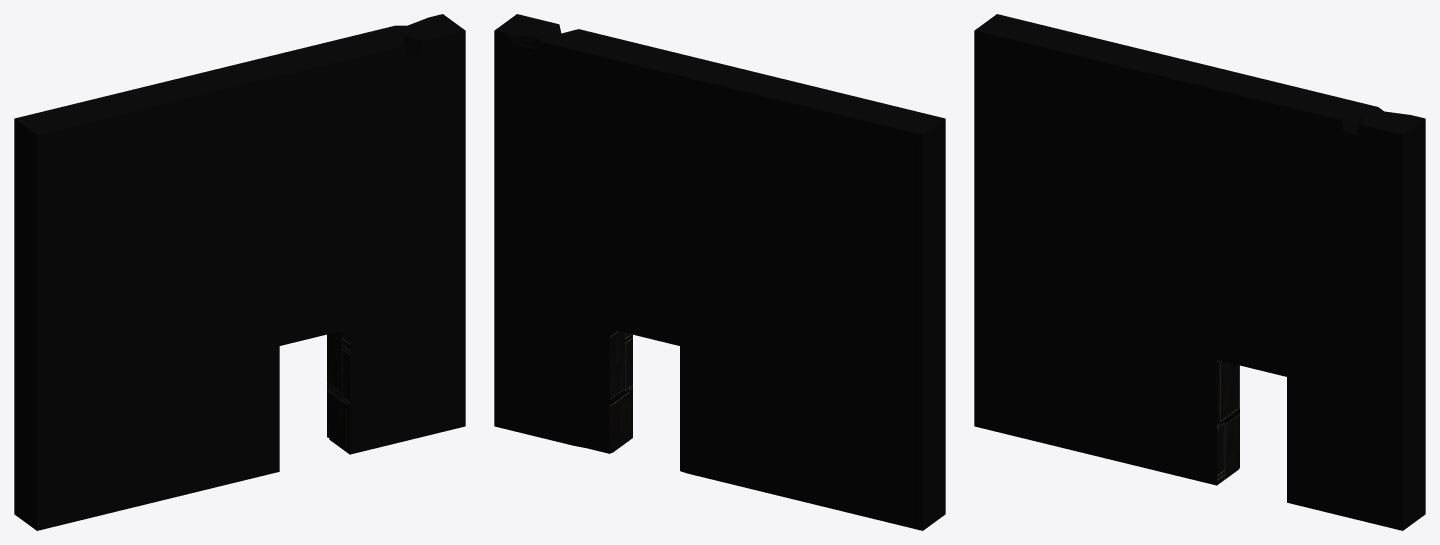
3 renders of one model, left to right at view 1: azimuth 30°, elevation 25°; view 2: azimuth 150°, elevation 25°; view 3: azimuth 330°, elevation 25°, orthographic.
Visible parts, largest first — view 1: SFT_Building_Attachable_Roof_Interior_Support__16_; view 2: SFT_Building_Attachable_Roof_Interior_Support__16_; view 3: SFT_Building_Attachable_Roof_Interior_Support__16_.
Boxes of the visible parts, x1,y1,x2,y2 form: SFT_Building_Attachable_Roof_Interior_Support__16_: (14, 14, 465, 530); SFT_Building_Attachable_Roof_Interior_Support__16_: (494, 14, 945, 530); SFT_Building_Attachable_Roof_Interior_Support__16_: (974, 14, 1425, 530).
Size of the model in its own units: 1182 by 1044 by 110.
